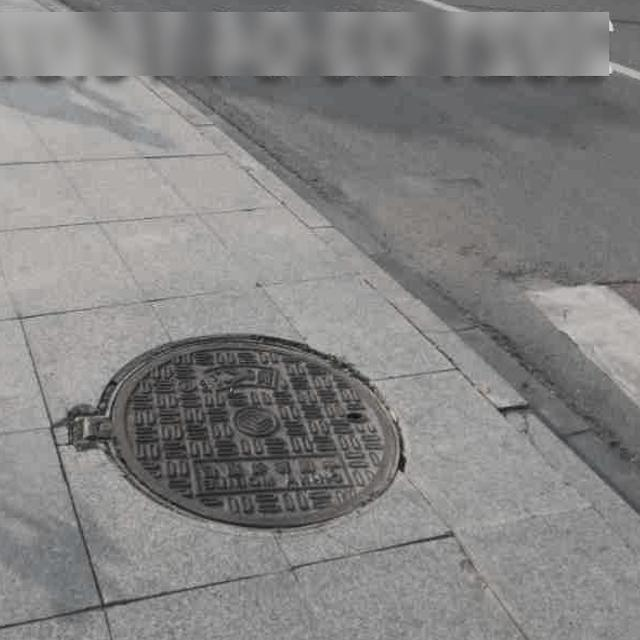good: (77, 332, 405, 528)
